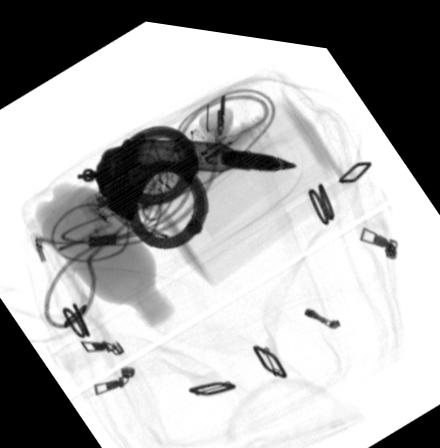Bullet: (123, 135, 299, 167)
HandCuffs: (73, 122, 208, 245)
